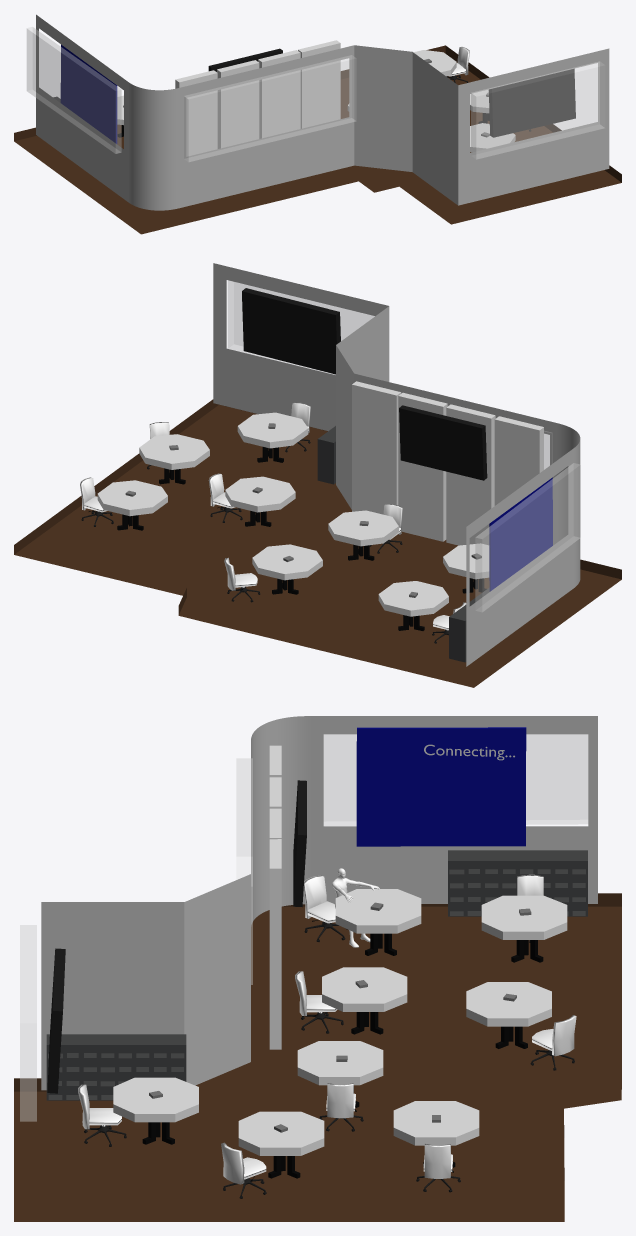
The model's file is projetoInterPessoa7.glb.
3 views of the same model, one above another, from view 1: azimuth 30°, elevation 25°; view 2: azimuth 150°, elevation 25°; view 3: azimuth 270°, elevation 25° (orthographic). The views are drawn at different scales.
Parts seen in each view (by area): view 1: Cube, Plane, Cube.062, Cube.007, Cube.063, Cube.008, Cube.009, Cube.011, Cube.010, Cube.003, Cube.012, Cube.021 (+3 smaller); view 2: Plane, Cube, Cube.063, Cube.008, Cube.003, Cube.006, Cube.009, Cube.010, Cube.011, Cube.012, Cube.007, Cube.021 (+9 smaller); view 3: Plane, Cube, Cube.009, Cube.063, Cube.001, Cube.002, Cube.021, Cube.037, Cube.020, Cube.013, Cube.029, Cube.044 (+12 smaller).
Boxes of the visible parts, bbox=[...] form: Cube: bbox=[36, 14, 609, 210]; Plane: bbox=[14, 45, 621, 234]; Cube.062: bbox=[184, 55, 356, 161]; Cube.007: bbox=[471, 61, 604, 159]; Cube.063: bbox=[27, 27, 121, 153]; Cube.008: bbox=[488, 69, 575, 137]; Cube.009: bbox=[60, 44, 117, 143]; Cube.011: bbox=[217, 60, 259, 148]; Cube.010: bbox=[258, 50, 300, 138]; Cube.003: bbox=[298, 40, 340, 128]; Cube.012: bbox=[175, 70, 217, 156]; Cube.021: bbox=[470, 123, 515, 152]; Plane: bbox=[14, 399, 621, 687]; Cube: bbox=[213, 263, 580, 666]; Cube.063: bbox=[475, 463, 580, 611]; Cube.008: bbox=[242, 288, 340, 374]; Cube.003: bbox=[352, 381, 401, 514]; Cube.006: bbox=[399, 405, 487, 480]; Cube.009: bbox=[489, 477, 552, 591]; Cube.010: bbox=[398, 392, 447, 541]; Cube.011: bbox=[446, 404, 495, 545]; Cube.012: bbox=[494, 416, 543, 505]; Cube.007: bbox=[228, 280, 374, 374]; Cube.021: bbox=[237, 412, 308, 448]; Plane: bbox=[14, 893, 621, 1221]; Cube: bbox=[41, 716, 597, 1090]; Cube.009: bbox=[356, 727, 526, 846]; Cube.063: bbox=[324, 734, 587, 825]; Cube.001: bbox=[448, 850, 587, 916]; Cube.002: bbox=[46, 1034, 186, 1100]; Cube.021: bbox=[113, 1077, 198, 1122]; Cube.037: bbox=[481, 895, 567, 939]; Cube.020: bbox=[238, 1111, 324, 1155]; Cube.013: bbox=[393, 1101, 479, 1145]; Cube.029: bbox=[322, 967, 407, 1011]; Cube.044: bbox=[466, 982, 551, 1026].
Bounding box in the file's own units: 88.29 × 28.57 × 71.98.
